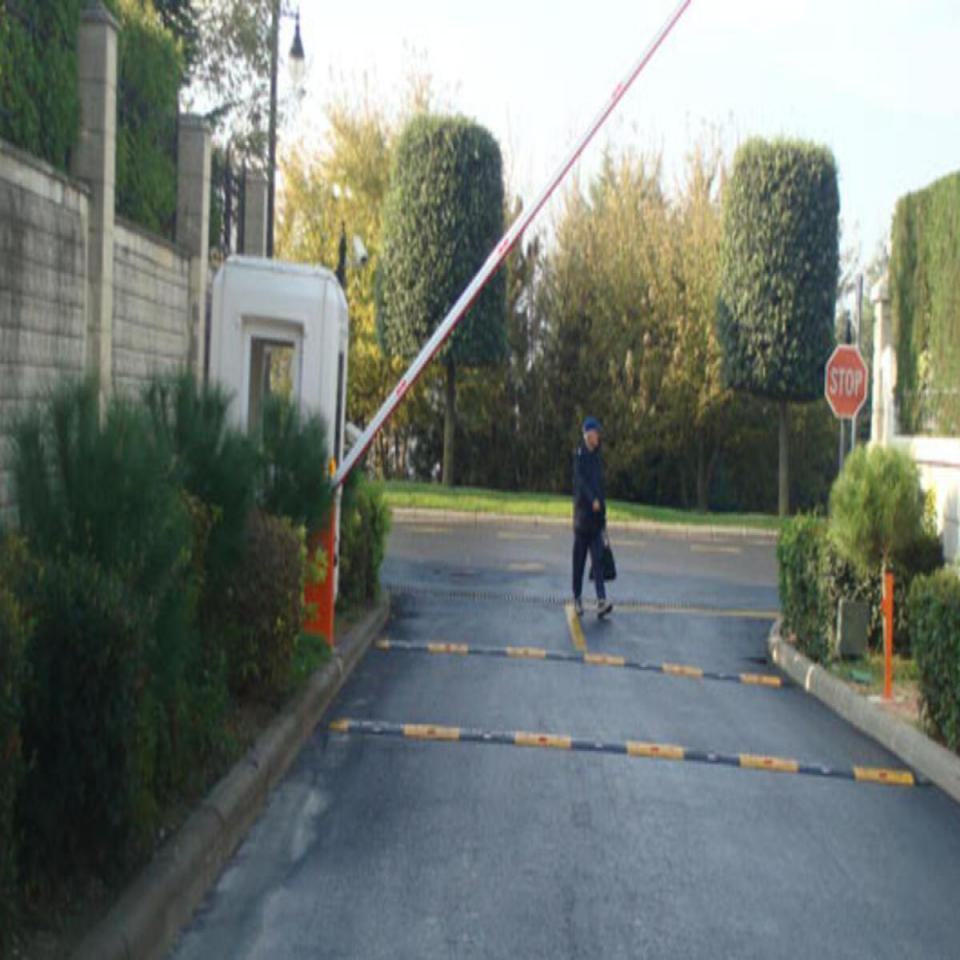speedbreaker: (328, 706, 925, 800), (376, 632, 786, 698)
